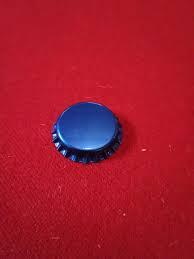Metal: (47, 94, 127, 170)
